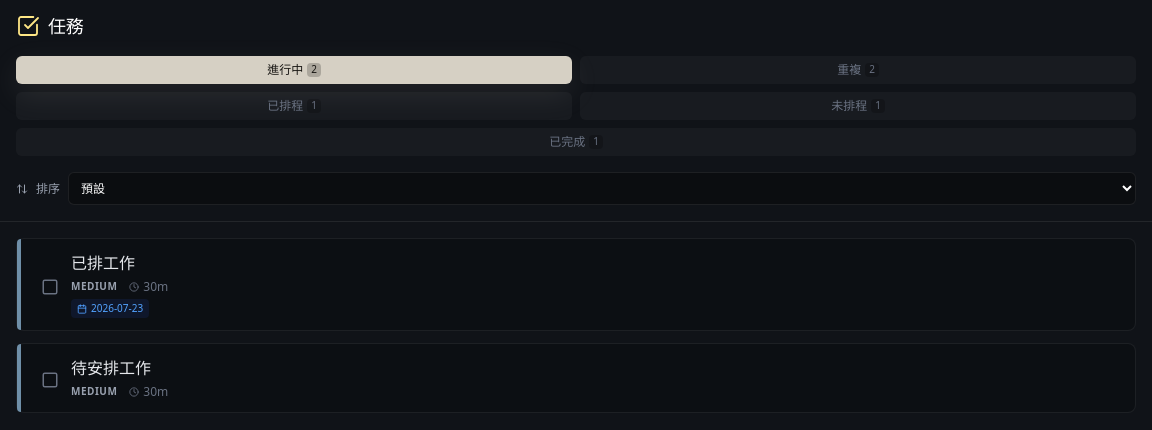
Test: TaskList › filters scheduled, unscheduled, recurring and completed tasks
The width and height of the screenshot is (1152, 430).
Expected: the text "已排工作" is shown, x1=71 y1=252 x2=135 y2=274
Expected: the text "待安排工作" is shown, x1=71 y1=357 x2=151 y2=379
Click the button named "重複2". click: (858, 70)
box: x1=580 y1=56 x2=1136 y2=84
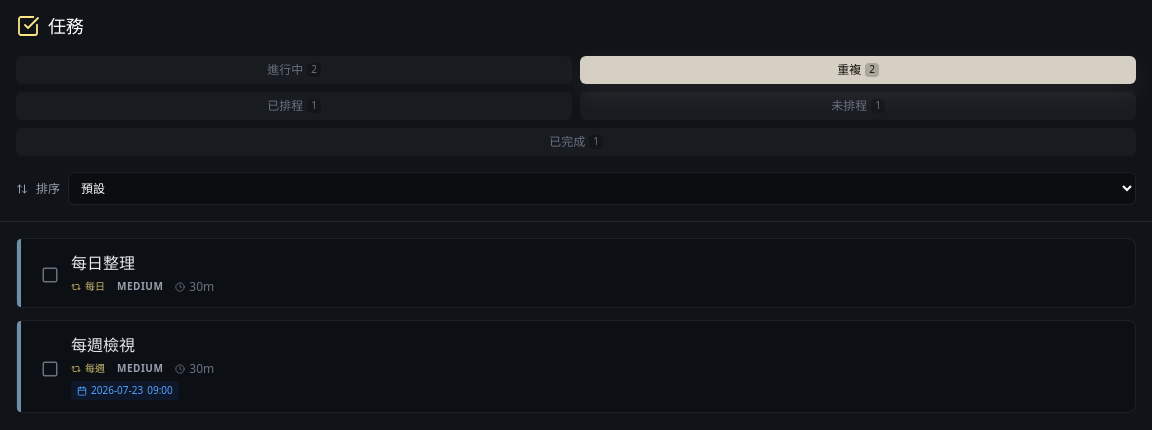
Result: the text "每日整理" is shown at x1=71 y1=252 x2=135 y2=274
Result: the text "每週檢視" is shown at x1=71 y1=334 x2=135 y2=356
Result: the text "每週" is shown at x1=71 y1=362 x2=105 y2=376
Click the button named "已完成1". click: (576, 142)
box: x1=16 y1=128 x2=1136 y2=156
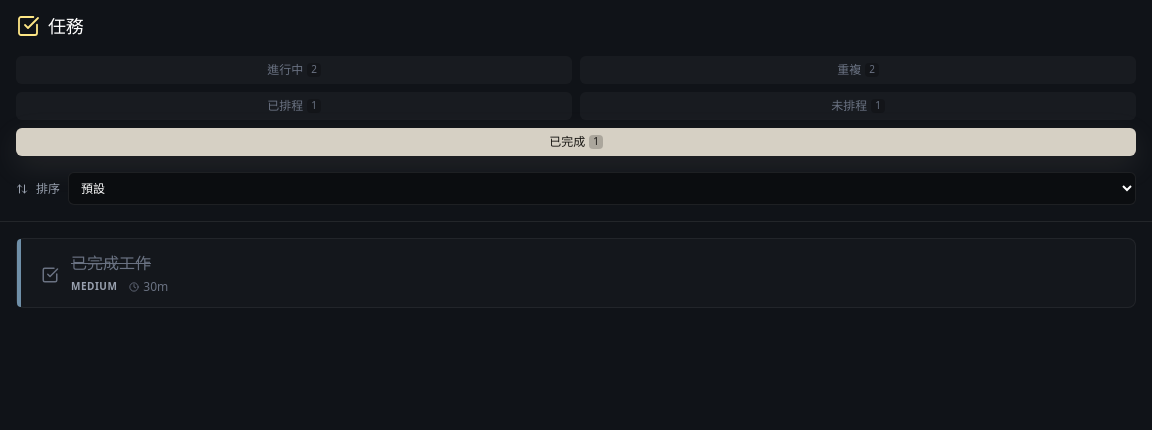
Result: the text "已完成工作" is shown at x1=71 y1=252 x2=151 y2=274
